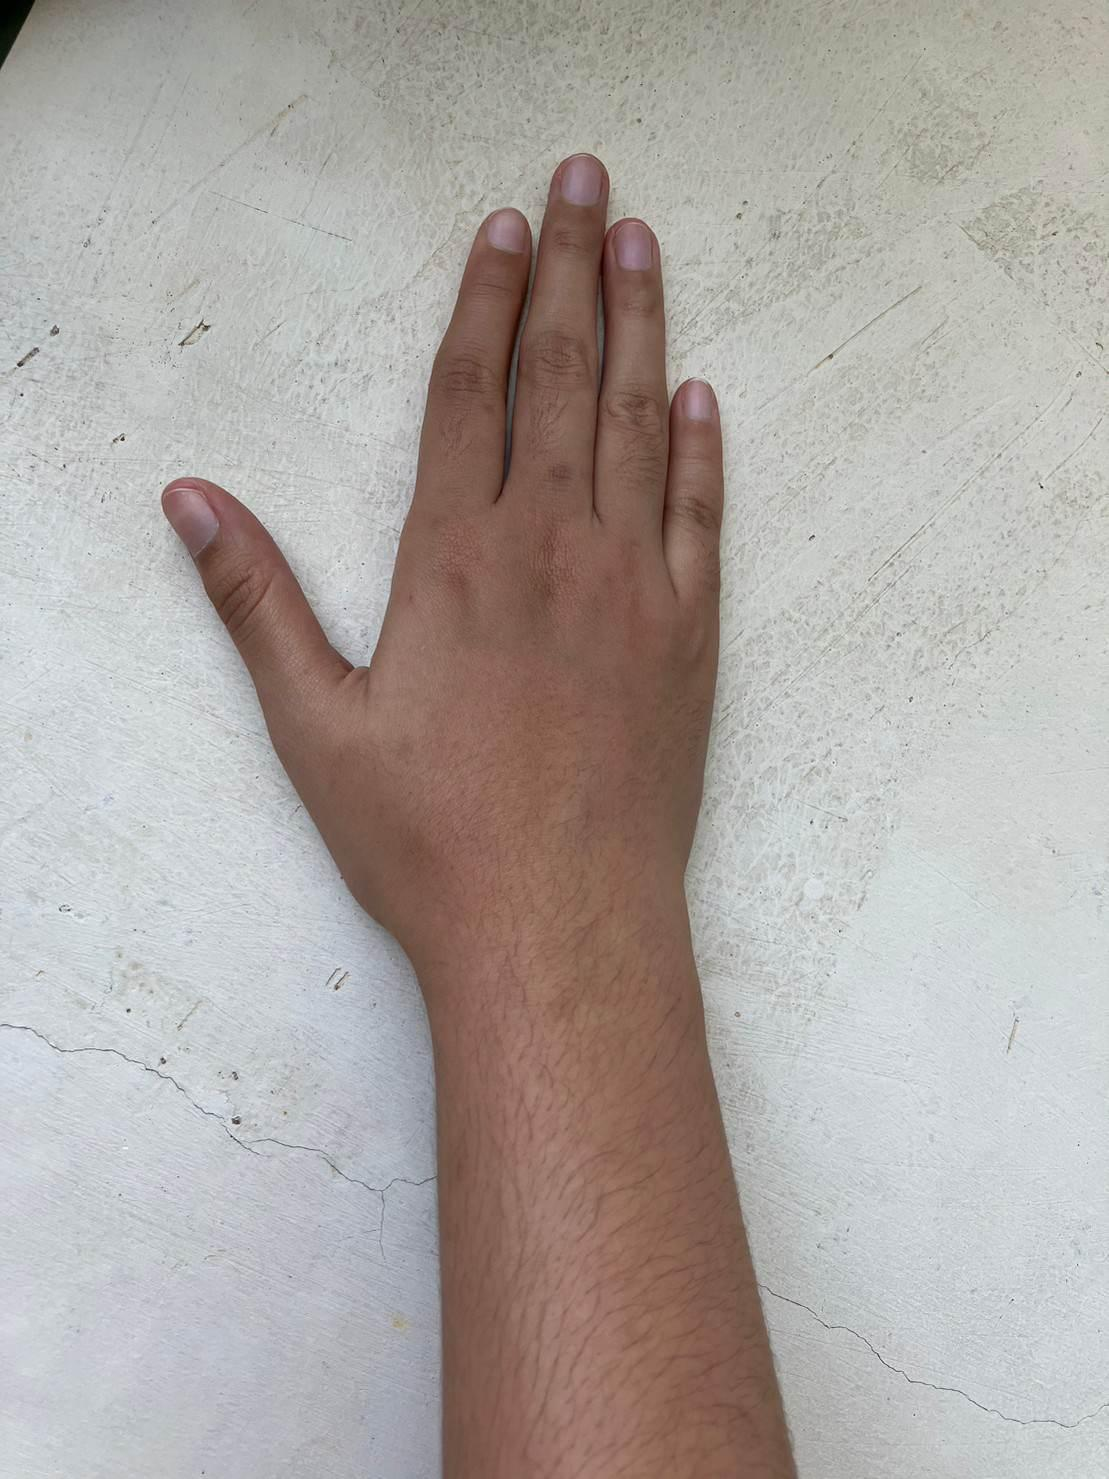hand: (161, 148, 732, 954)
